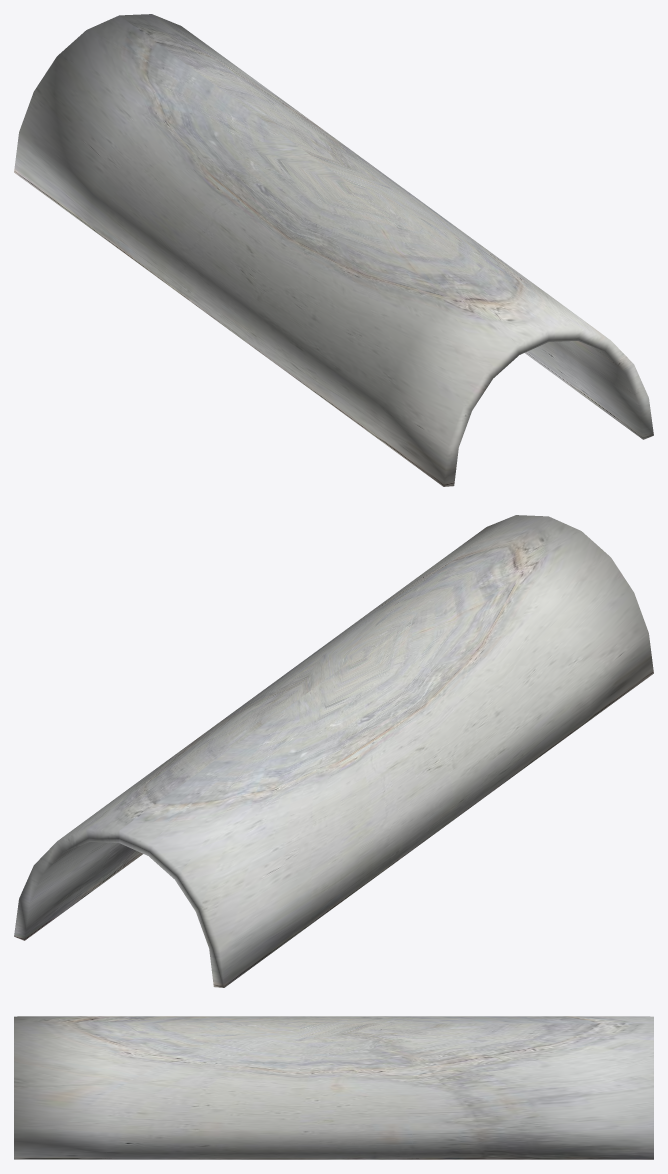
File: tunnel.obj
3 views of the same model, one above another, from view 1: azimuth 30°, elevation 25°; view 2: azimuth 150°, elevation 25°; view 3: azimuth 270°, elevation 25° (orthographic). The views are drawn at different scales.
Parts seen in each view (by area): view 1: Tunnel_Untitled; view 2: Tunnel_Untitled; view 3: Tunnel_Untitled.
Boxes of the visible parts, left/top/right/bottom form: Tunnel_Untitled: left=14, top=14, right=653, bottom=486; Tunnel_Untitled: left=14, top=515, right=653, bottom=987; Tunnel_Untitled: left=14, top=1016, right=653, bottom=1159.
Bounding box in the file's own units: 8.78 × 5.32 × 31.05.
